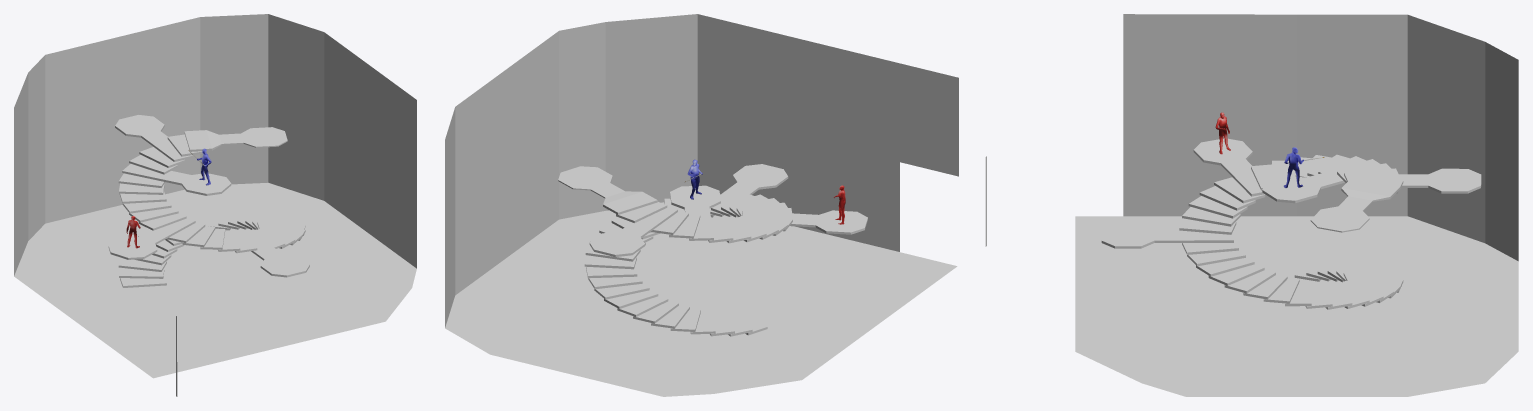
The model's file is spiral.glb.
The picture shows the model from 3 angles, left to right: view 1: azimuth 30°, elevation 25°; view 2: azimuth 150°, elevation 25°; view 3: azimuth 270°, elevation 25°; orthographic projection. The views are drawn at different scales.
Parts seen in each view (by area): view 1: Wing.evolution, Spiral Staircase.001; view 2: Wing.evolution, Spiral Staircase.001; view 3: Wing.evolution, Spiral Staircase.001, Neanderthal.001.
Boxes of the visible parts, x1,y1,x2,y2 form: Wing.evolution: (14, 14, 416, 396); Spiral Staircase.001: (108, 115, 309, 287); Wing.evolution: (445, 14, 986, 396); Spiral Staircase.001: (558, 164, 867, 336); Wing.evolution: (1075, 14, 1518, 396); Spiral Staircase.001: (1101, 138, 1481, 309); Neanderthal.001: (1283, 147, 1324, 187).
Size of the model in its own units: 16.2 by 8.4 by 18.99.
3 materials, 2 textured.
